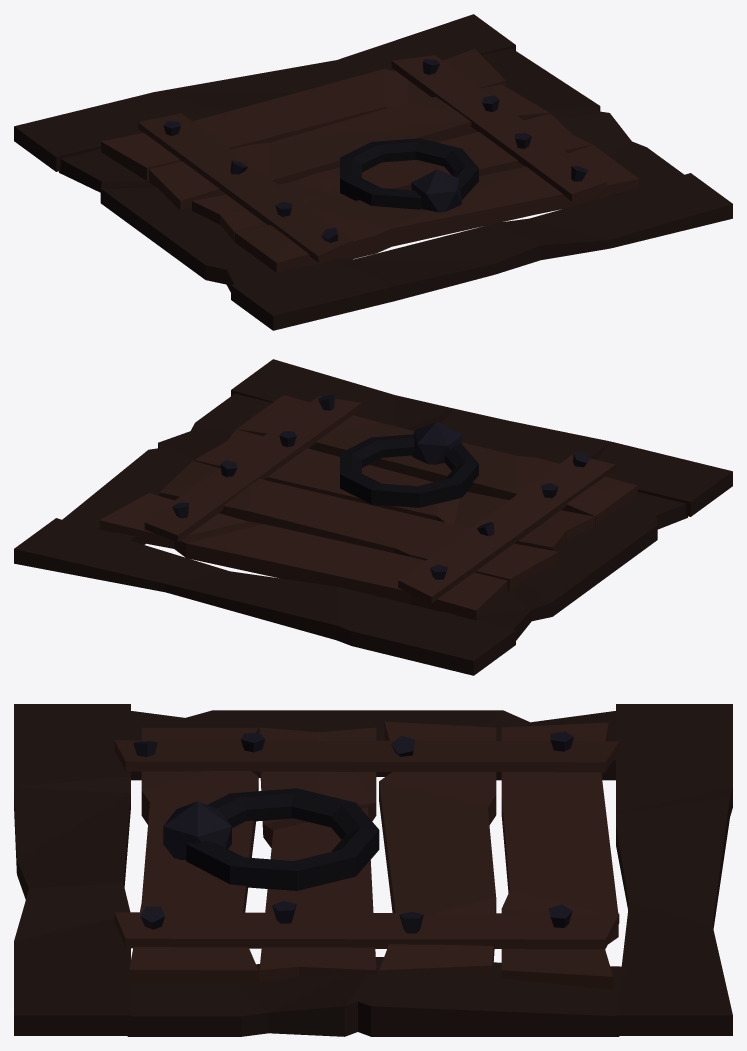
File: Trapdoor.obj
3 renders of one model, top to bottom at view 1: azimuth 30°, elevation 25°; view 2: azimuth 150°, elevation 25°; view 3: azimuth 270°, elevation 25°, orthographic. The views are drawn at different scales.
Parts seen in each view (by area): view 1: Trapdoor.001; view 2: Trapdoor.001; view 3: Trapdoor.001.
Part boxes in pixels (x1,y1,x2,y2): Trapdoor.001: [14, 14, 732, 330]; Trapdoor.001: [14, 359, 732, 675]; Trapdoor.001: [14, 704, 732, 1036].
Bounding box in the file's own units: 1.74 × 0.2151 × 1.7.
